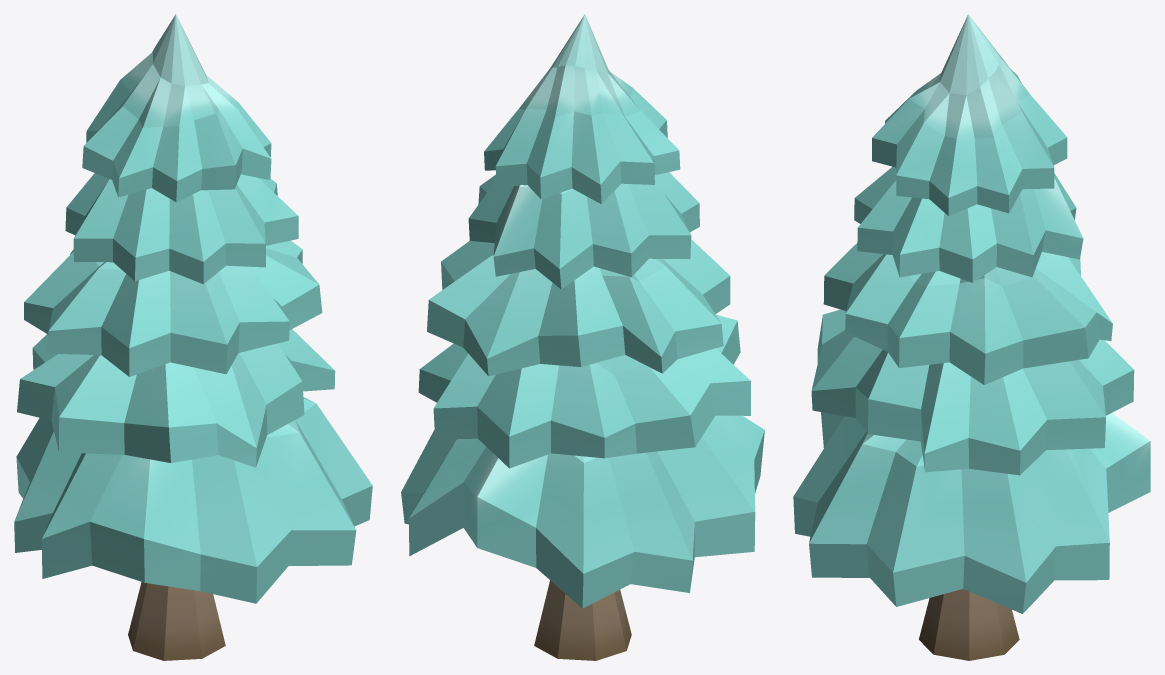
Rendered from Tree_Fern_Medium_Winter.fbx.
The picture shows the model from 3 angles, left to right: view 1: azimuth 30°, elevation 25°; view 2: azimuth 150°, elevation 25°; view 3: azimuth 270°, elevation 25°; orthographic projection.
Visible parts, largest first — view 1: Tree_Fern_Medium_Winter; view 2: Tree_Fern_Medium_Winter; view 3: Tree_Fern_Medium_Winter.
Boxes of the visible parts, x1,y1,x2,y2 form: Tree_Fern_Medium_Winter: (14,14,372,660); Tree_Fern_Medium_Winter: (401,14,764,660); Tree_Fern_Medium_Winter: (793,14,1150,660).
Size of the model in its own units: 231 by 445 by 231.
